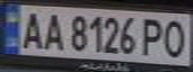1: (84, 12, 106, 52)
2: (103, 14, 124, 54)
6: (118, 13, 142, 55)
8: (66, 11, 87, 52)
A: (18, 8, 45, 50), (39, 10, 66, 51)
O: (160, 17, 190, 59)
P: (139, 16, 169, 56)
